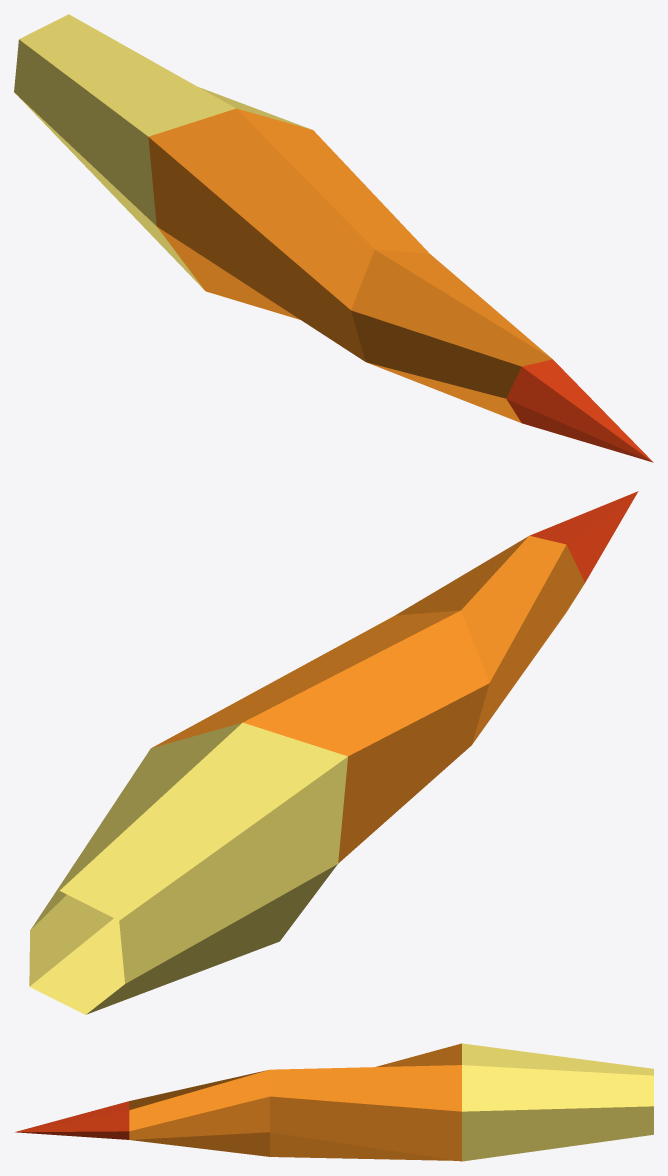
The picture shows the model from 3 angles, top to bottom: view 1: azimuth 30°, elevation 25°; view 2: azimuth 150°, elevation 25°; view 3: azimuth 270°, elevation 25°; orthographic projection. The views are drawn at different scales.
Visible parts, largest first — view 1: t11_g27_p3; view 2: t11_g27_p3; view 3: t11_g27_p3.
Boxes of the visible parts, x1,y1,x2,y2 form: t11_g27_p3: [14, 14, 653, 462]; t11_g27_p3: [29, 491, 638, 1014]; t11_g27_p3: [15, 1043, 653, 1161].
Bounding box in the file's own units: 1.86 × 1.89 × 10.45.
